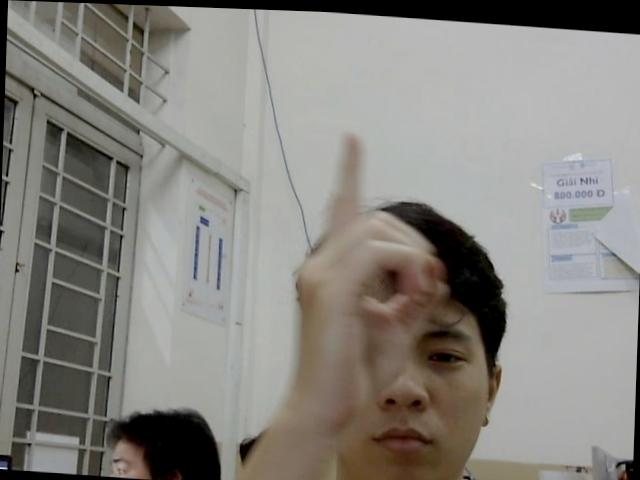D: (290, 124, 450, 441)
